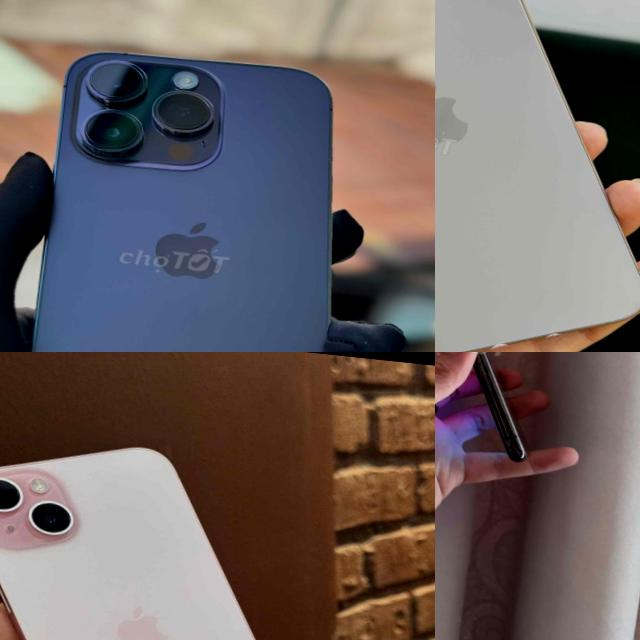gen_14: (12, 39, 374, 352)
gen_15: (0, 433, 363, 640), (435, 0, 640, 352)
gen_x_xs: (435, 352, 559, 463)
